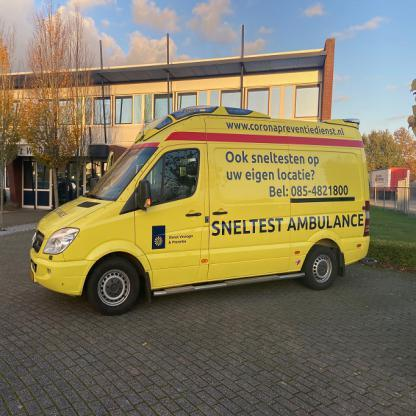Ambulance - v1 Ambulance last generate: (28, 108, 373, 308)
